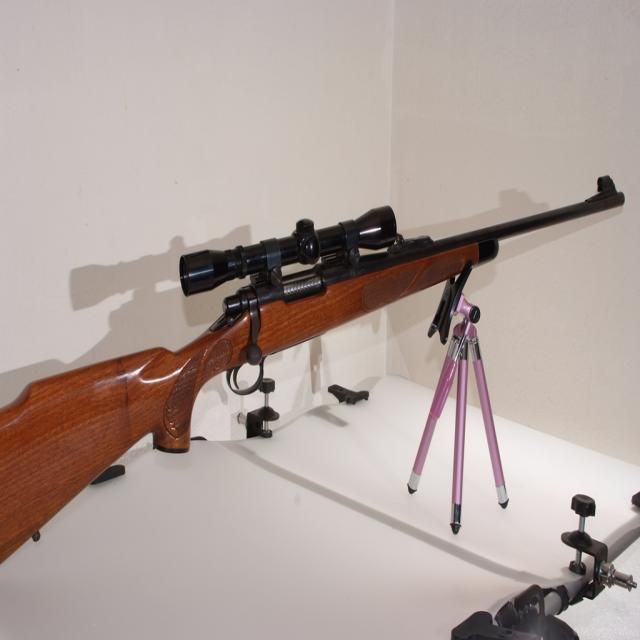weapon: (0, 174, 625, 565)
